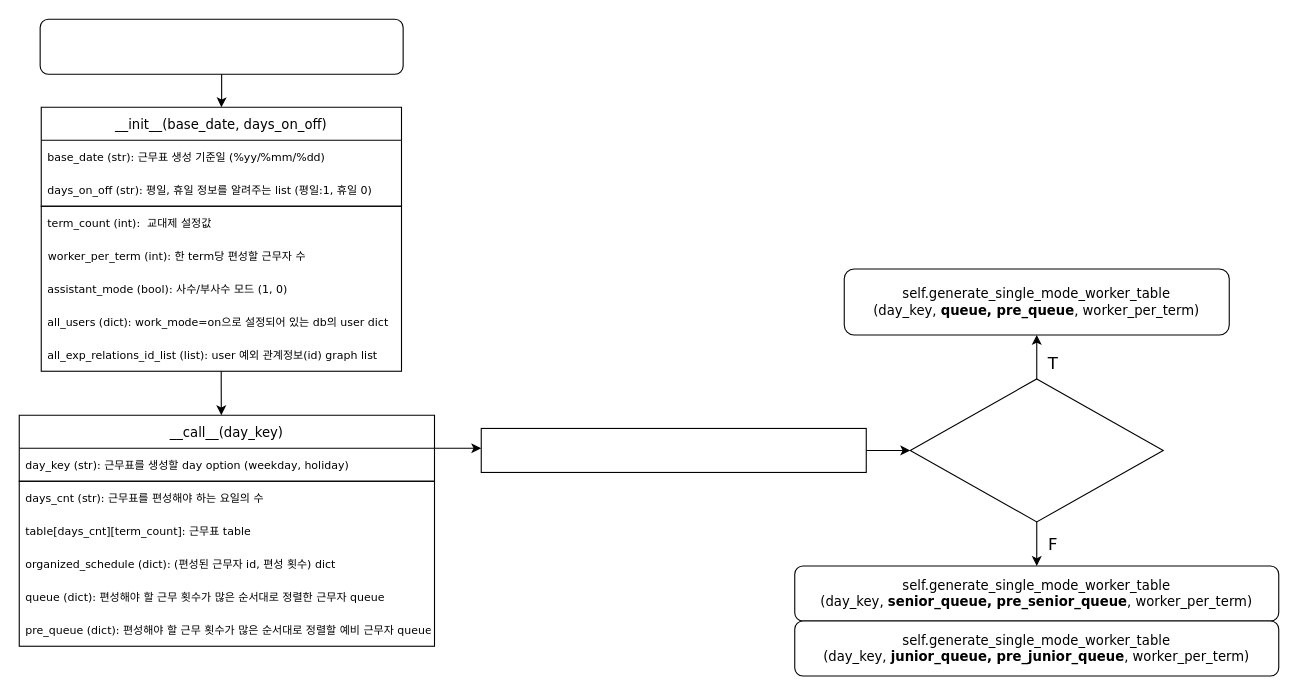
This 1298x695 diagram has some shape labels left out. Here are the shapes that lost their labels. From the top down, the centre of each, then its label:
At (x=221, y=46): "@classmethod init_scheduler( base_date, days_on_off, day_key )".
At (x=673, y=449): "queue, pre_queue = self.workers_queue(day_key)".
At (x=1036, y=450): "worker_per_term == 1 or not assistant_mode".
